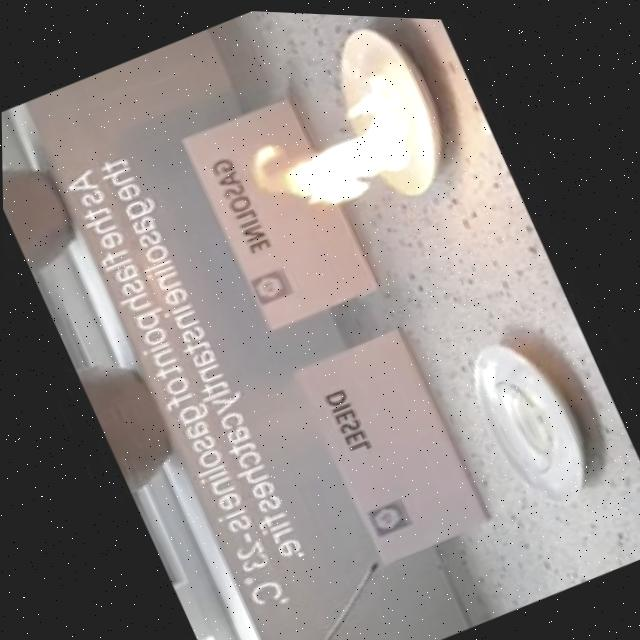Fire: (219, 48, 442, 242)
